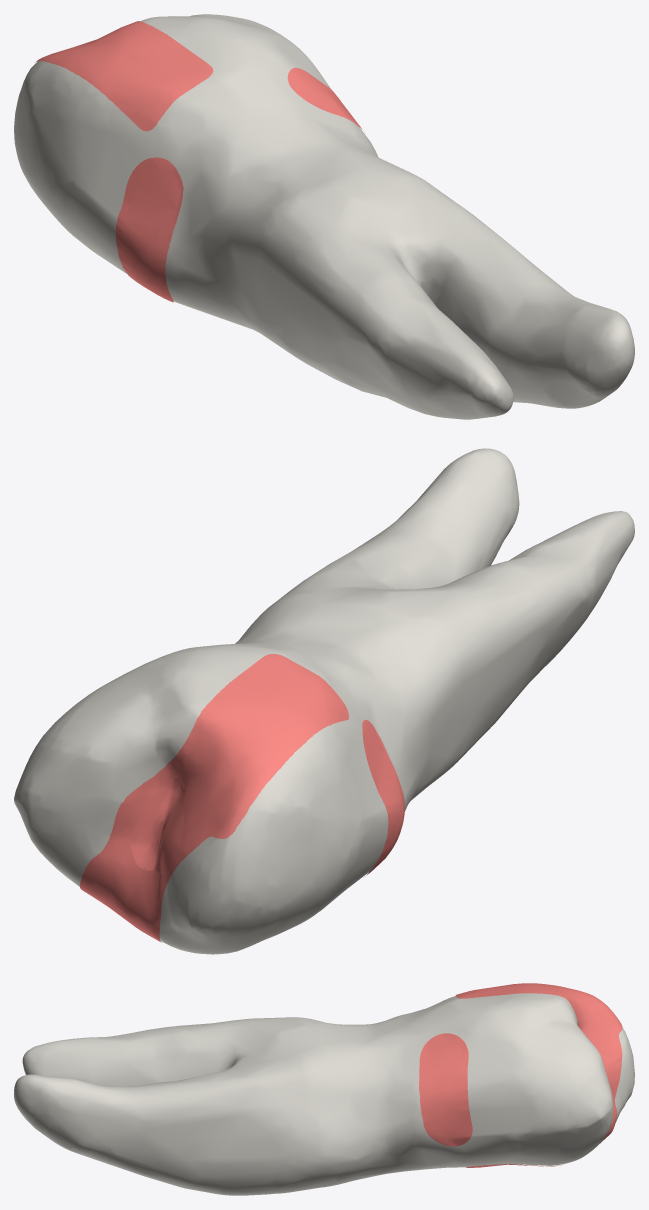
File: tooth_15_FMA55688.glb
3 renders of one model, top to bottom at view 1: azimuth 30°, elevation 25°; view 2: azimuth 150°, elevation 25°; view 3: azimuth 270°, elevation 25°, orthographic. The views are drawn at different scales.
Parts seen in each view (by area): view 1: tooth_15, class2_distal, class5_facial, class5_lingual; view 2: tooth_15, class2_distal, class2_mesial, class5_facial, class2_mesial_distal, class1; view 3: tooth_15, class5_lingual, class2_distal, class2_mesial.
Boxes of the visible parts, x1=… form: tooth_15: x1=14, y1=14, x2=634, y2=419; class2_distal: x1=35, y1=21, x2=213, y2=131; class5_facial: x1=115, y1=157, x2=183, y2=302; class5_lingual: x1=287, y1=67, x2=364, y2=132; tooth_15: x1=14, y1=448, x2=634, y2=954; class2_distal: x1=119, y1=654, x2=348, y2=875; class2_mesial: x1=79, y1=778, x2=185, y2=942; class5_facial: x1=362, y1=720, x2=404, y2=876; class2_mesial_distal: x1=109, y1=768, x2=205, y2=889; class1: x1=136, y1=779, x2=185, y2=868; tooth_15: x1=14, y1=993, x2=634, y2=1195; class5_lingual: x1=419, y1=1033, x2=472, y2=1146; class2_distal: x1=455, y1=983, x2=622, y2=1088; class2_mesial: x1=466, y1=1051, x2=618, y2=1167.
Size of the model in its own units: 8.81 by 7.19 by 24.5.
